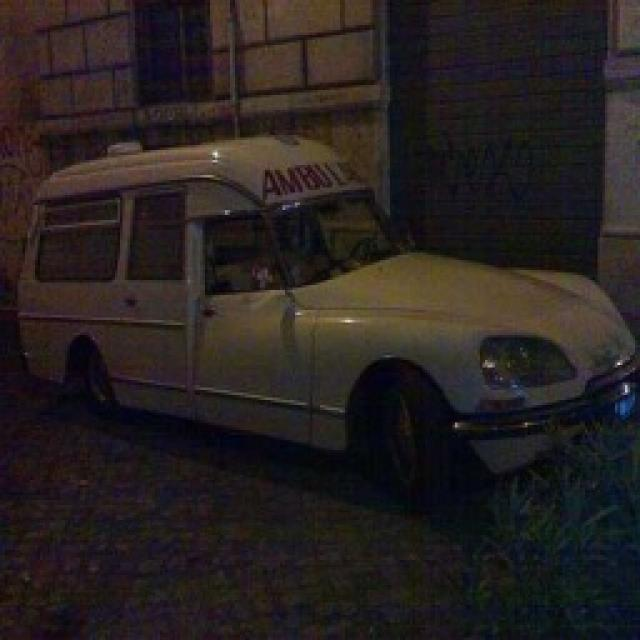emergency-vehicle: (18, 132, 640, 501)
